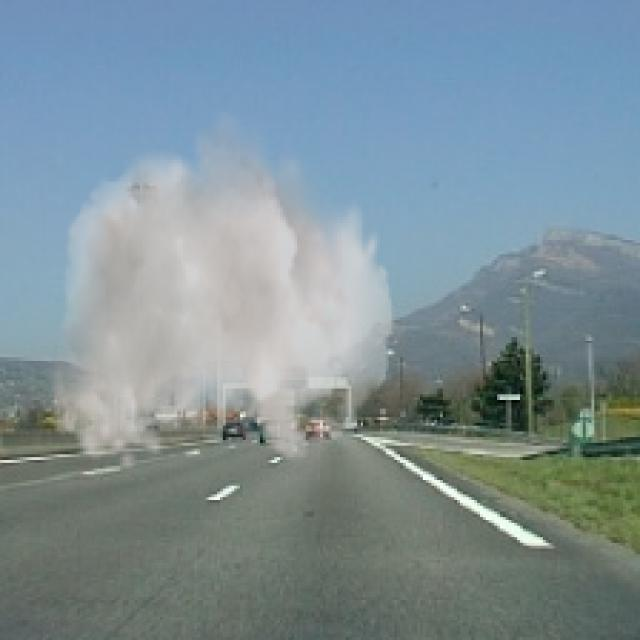smoke: (49, 103, 394, 474)
